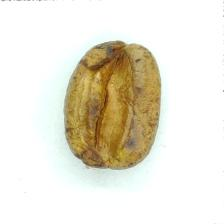NG: (85, 49, 142, 162)
